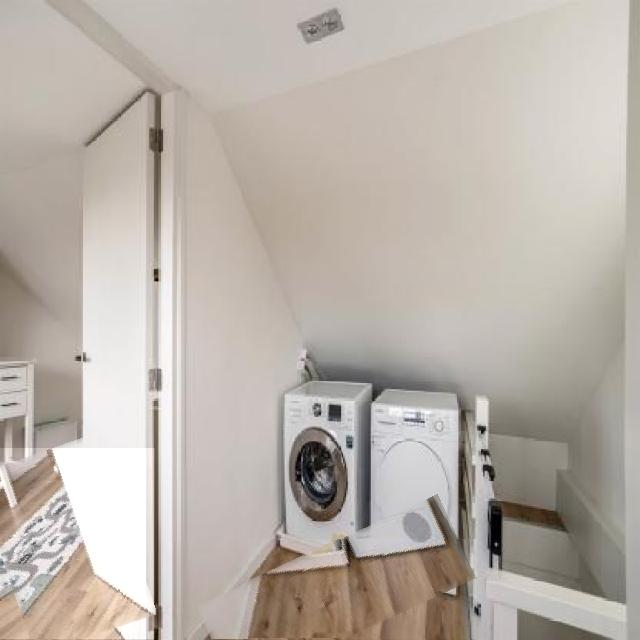floor: (0, 449, 155, 640), (248, 539, 476, 639)
